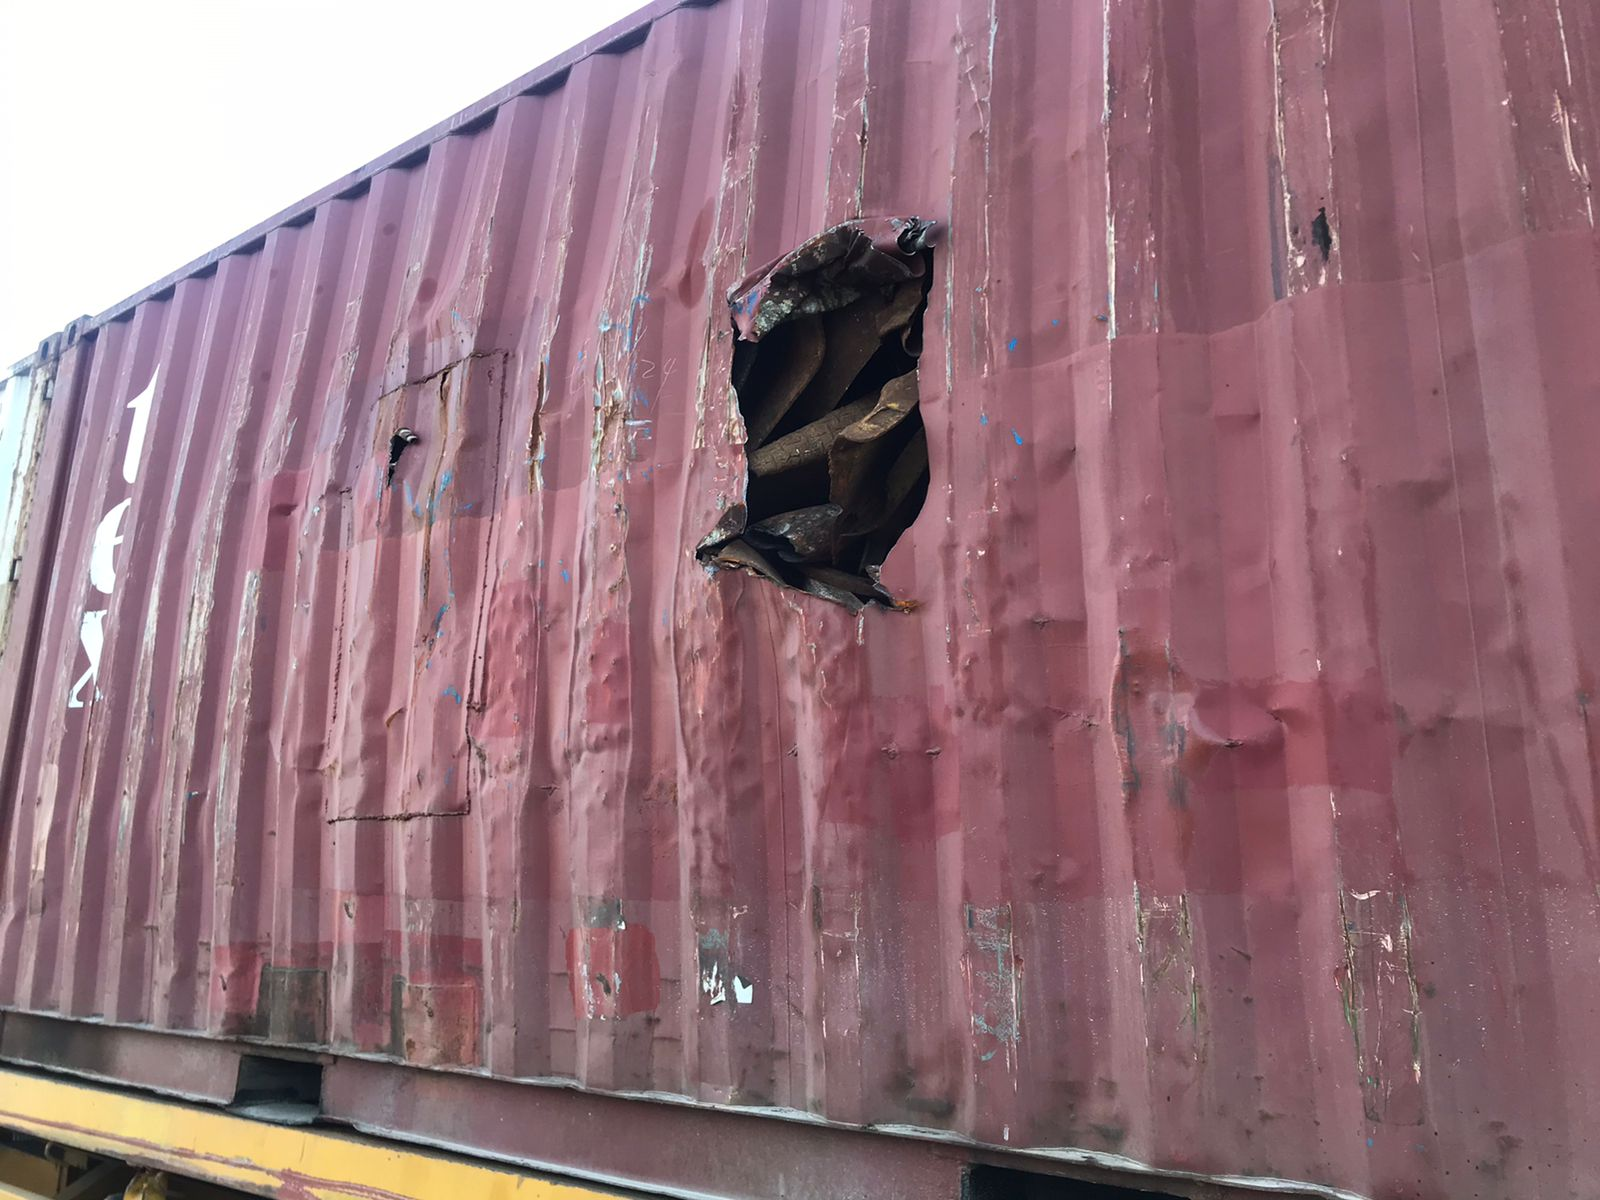cut: (706, 216, 963, 654), (346, 411, 456, 516)
dented: (218, 611, 955, 857), (1073, 611, 1405, 799)
